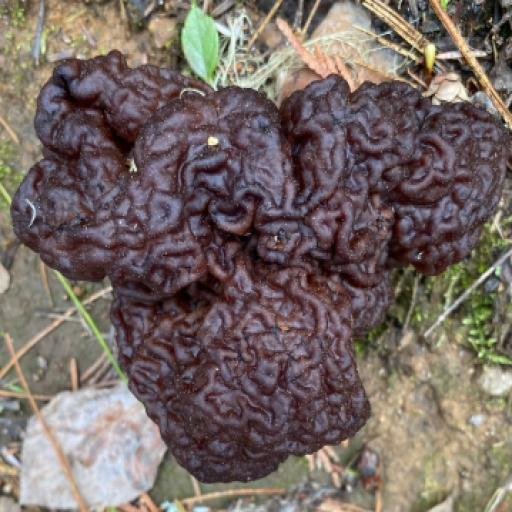False Morel: (0, 51, 507, 502)
